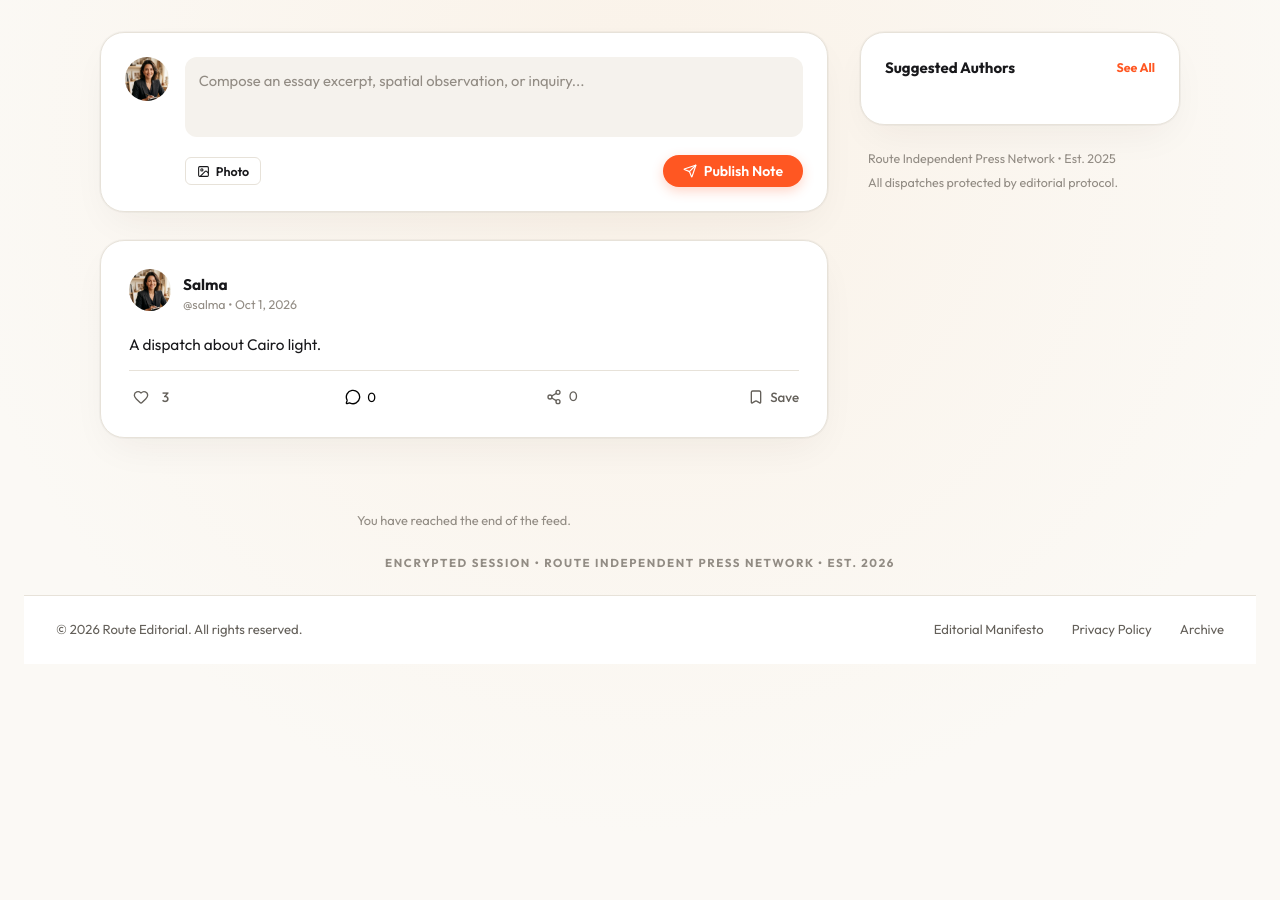
Feed like/bookmark interactions › shows an error message when the like request fails
The image size is (1280, 900).
Check: the text "A dispatch about Cairo light." is shown, box [129,335,321,354]
Click the button named "like post". click: (141, 396)
box: [129,384,153,408]
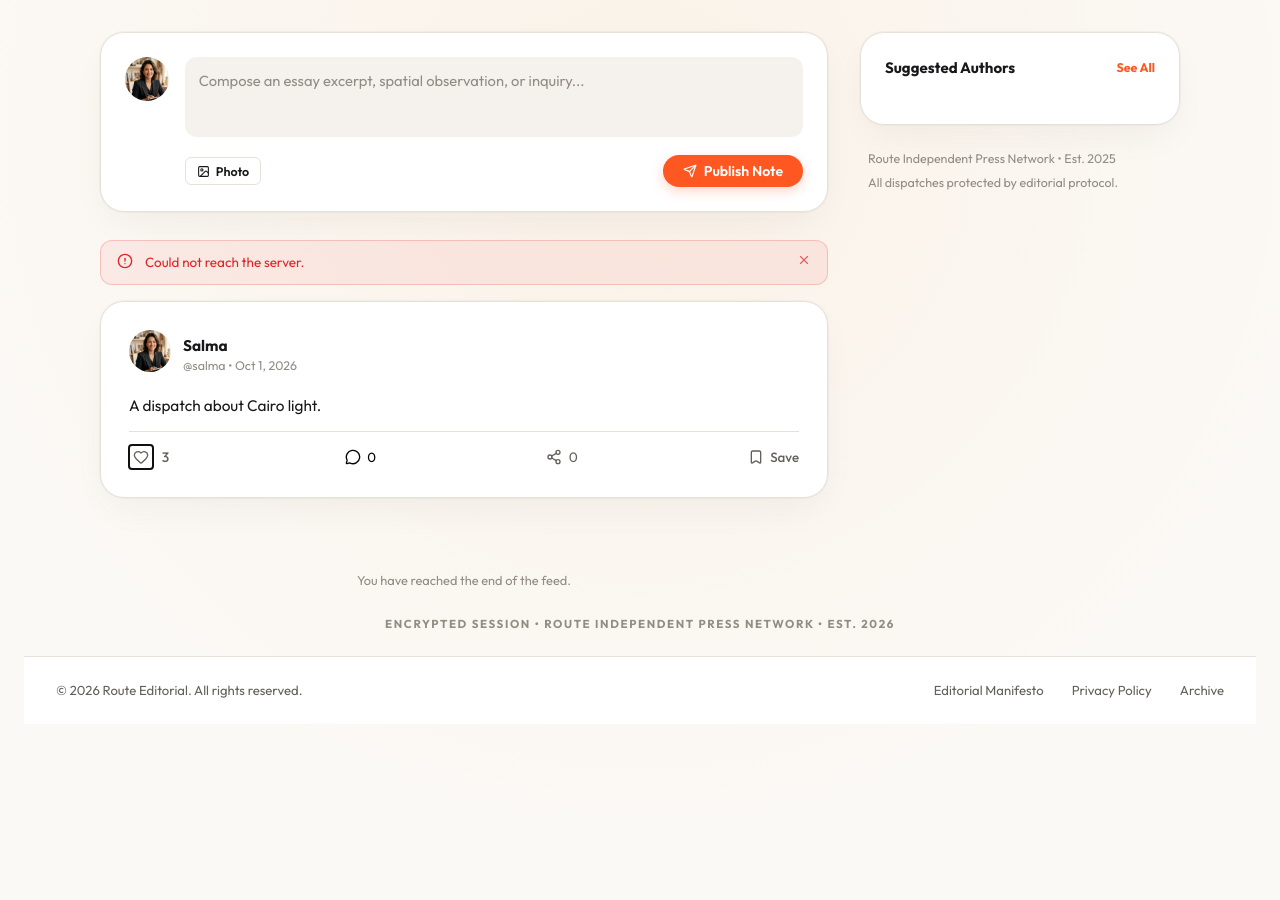
Check: the button named "like post" is shown, box [129,445,153,469]
Check: the message reads "Could not reach the server.", box [145,254,304,270]
